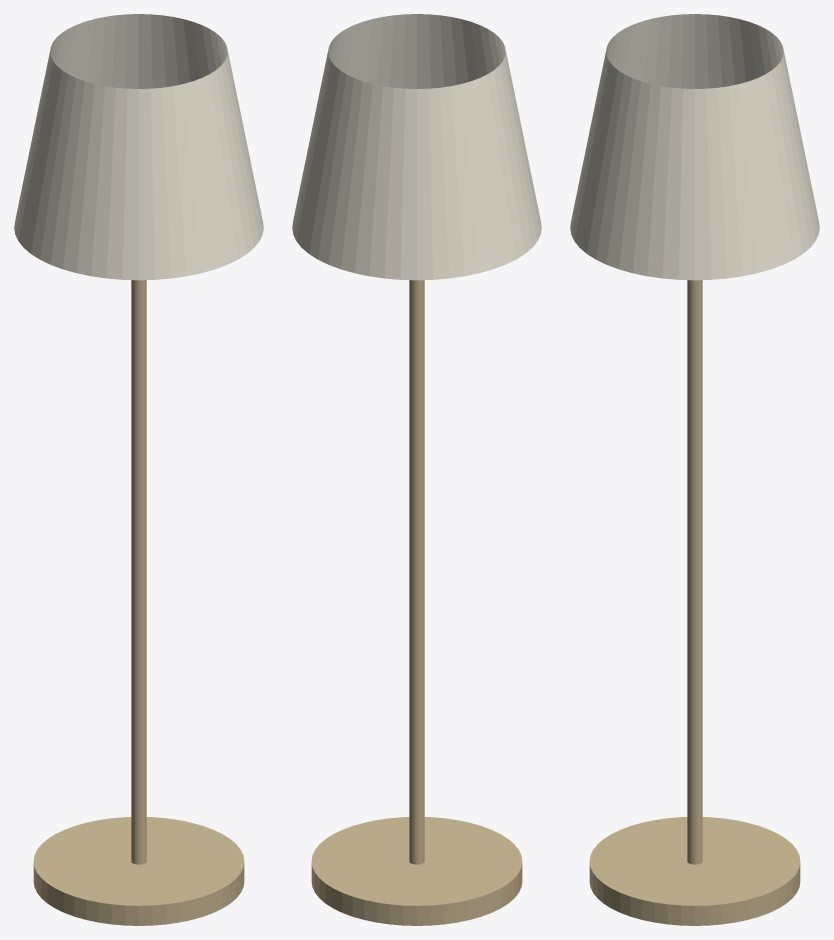
File: floor_lamp.glb
3 renders of one model, left to right at view 1: azimuth 30°, elevation 25°; view 2: azimuth 150°, elevation 25°; view 3: azimuth 270°, elevation 25°, orthographic.
Visible parts, largest first — view 1: linen-shade, weighted-base, stem; view 2: linen-shade, weighted-base, stem; view 3: linen-shade, weighted-base, stem.
Part boxes in pixels (x1,y1,x2,y2): linen-shade: (14, 14, 263, 280); weighted-base: (33, 817, 244, 925); stem: (131, 280, 146, 864); linen-shade: (292, 14, 541, 280); weighted-base: (311, 817, 522, 925); stem: (409, 280, 424, 864); linen-shade: (570, 14, 819, 280); weighted-base: (589, 817, 800, 925); stem: (687, 280, 702, 864).
Bounding box in the file's own units: 0.45 × 1.65 × 0.45.
